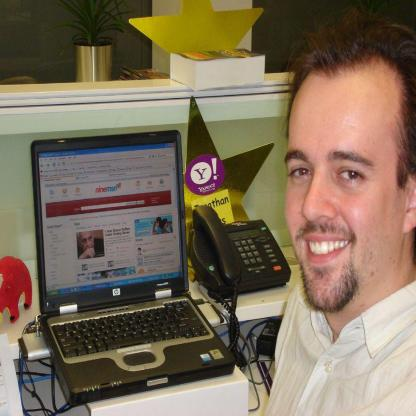board: (17, 132, 240, 412)
